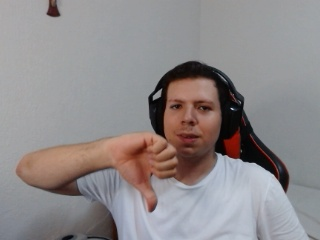Atras: (100, 123, 183, 220)
